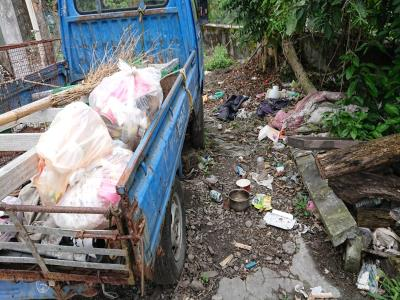bottle: (208, 187, 223, 204)
bowl: (226, 186, 253, 214)
plastic_bag: (35, 109, 120, 204), (89, 62, 165, 131), (276, 94, 335, 131), (215, 92, 246, 119)
